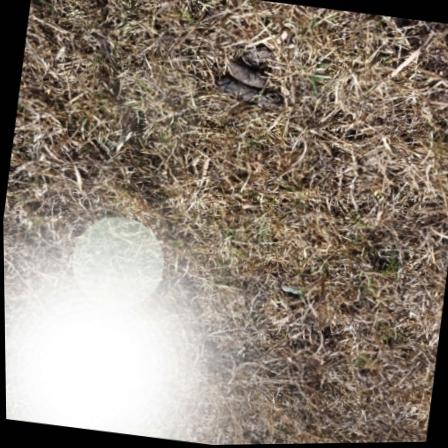dog-poop: (210, 45, 292, 110)
